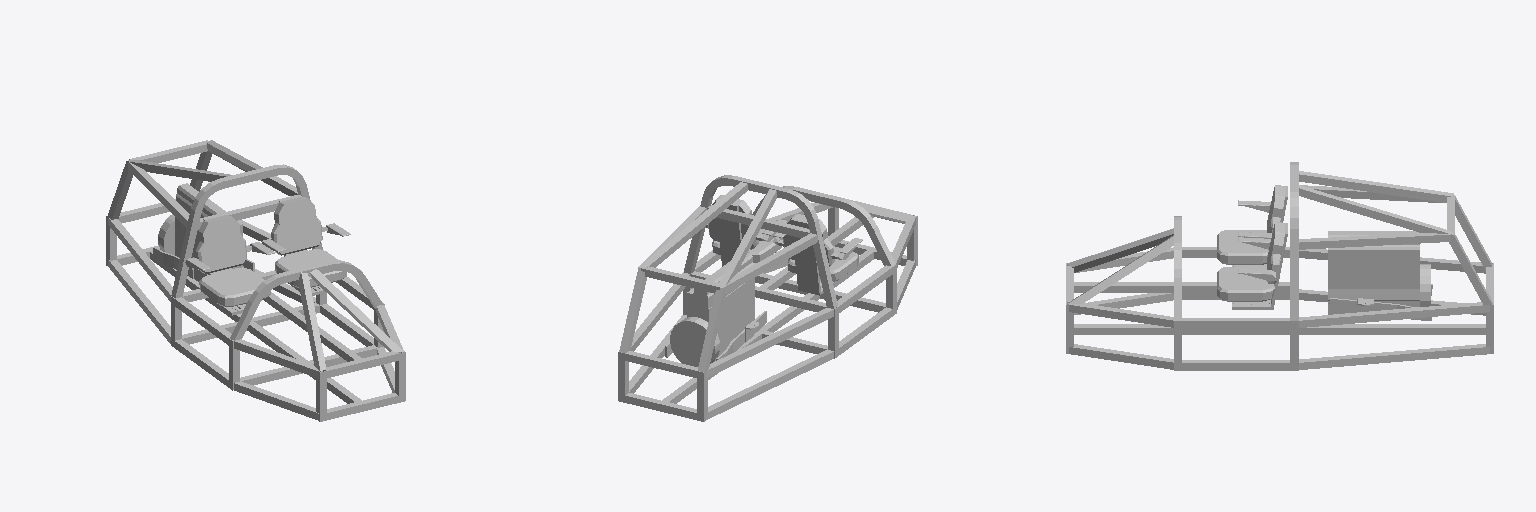
File: Chassis.obj
3 renders of one model, left to right at view 1: azimuth 30°, elevation 25°; view 2: azimuth 150°, elevation 25°; view 3: azimuth 270°, elevation 25°, orthographic.
Visible parts, largest first — view 1: mesh 3 BigBoySeat-2-solid1 face, mesh 1, mesh 2 BigBoySeat-2-solid1, mesh 4 Chassis-1-solid34; view 2: mesh 3 BigBoySeat-2-solid1 face, mesh 2 BigBoySeat-2-solid1, mesh 1, mesh 4 Chassis-1-solid34; view 3: mesh 3 BigBoySeat-2-solid1 face, mesh 2 BigBoySeat-2-solid1, mesh 1, mesh 4 Chassis-1-solid34.
Part boxes in pixels (left/top/right/bottom): mesh 3 BigBoySeat-2-solid1 face: left=106, top=140, right=405, bottom=421; mesh 1: left=185, top=197, right=350, bottom=310; mesh 2 BigBoySeat-2-solid1: left=158, top=183, right=326, bottom=315; mesh 4 Chassis-1-solid34: left=153, top=245, right=254, bottom=281; mesh 3 BigBoySeat-2-solid1 face: left=618, top=175, right=917, bottom=421; mesh 2 BigBoySeat-2-solid1: left=670, top=200, right=840, bottom=366; mesh 1: left=706, top=195, right=862, bottom=281; mesh 4 Chassis-1-solid34: left=665, top=311, right=766, bottom=360; mesh 3 BigBoySeat-2-solid1 face: left=1066, top=162, right=1493, bottom=370; mesh 2 BigBoySeat-2-solid1: left=1232, top=186, right=1430, bottom=314; mesh 1: left=1217, top=185, right=1284, bottom=304; mesh 4 Chassis-1-solid34: left=1329, top=284, right=1432, bottom=320.
Size of the model in its own units: 1.38 by 1.34 by 3.37.